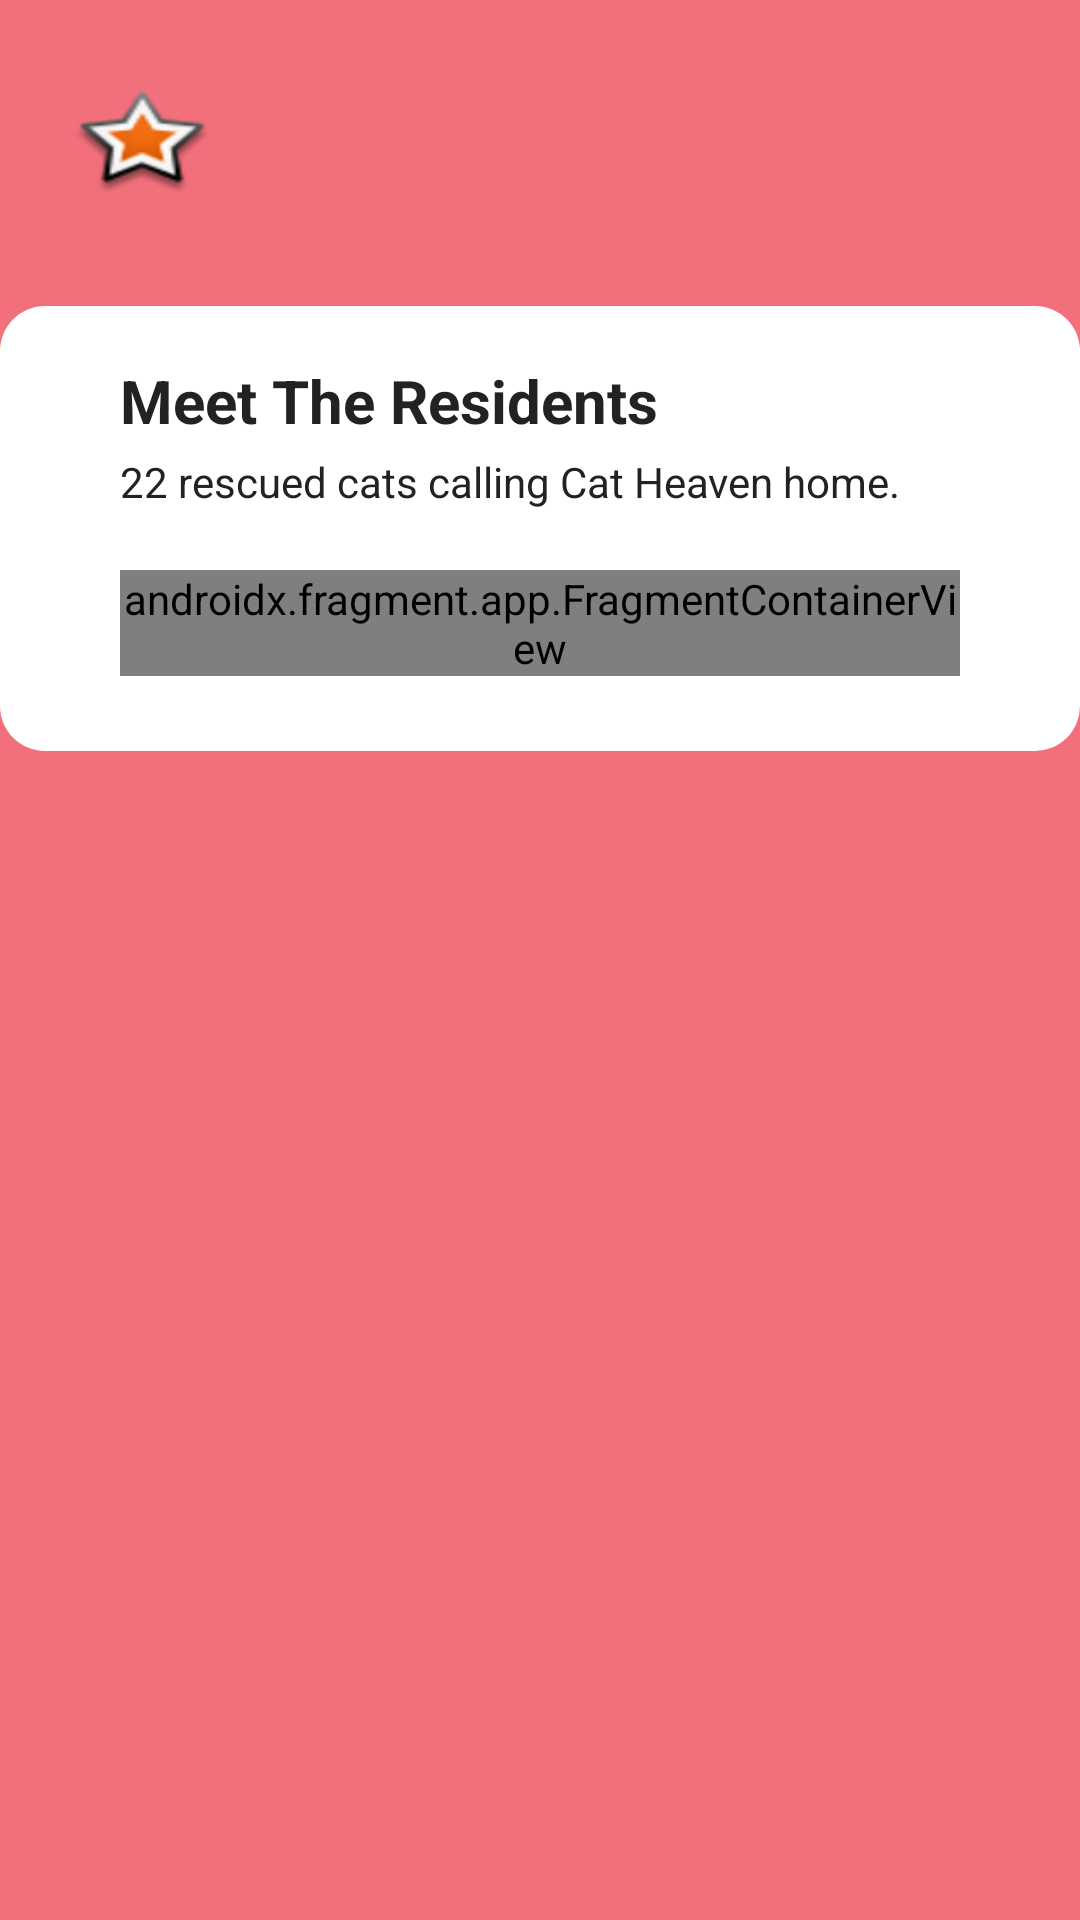

Where icons sit on this 1080×1920 app screen, as (x1, y1, x2, y2):
star on: (80, 91, 205, 189)
